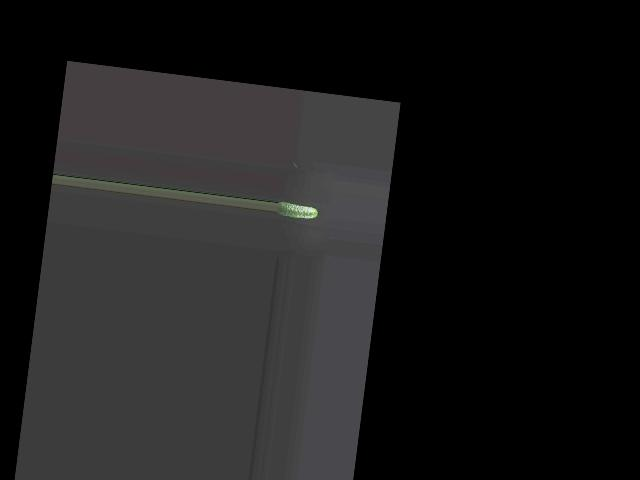cucumber: (275, 200, 318, 220)
